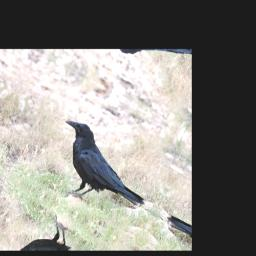Crow: (36, 113, 163, 234)
